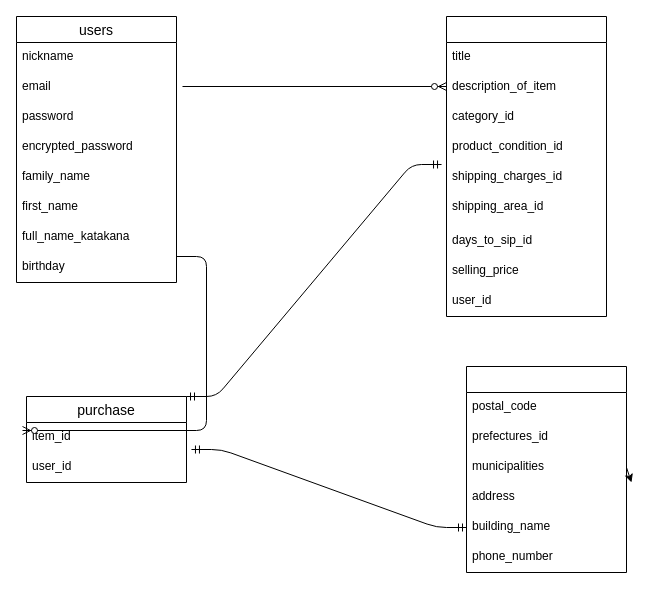
Image size: 649x589. Some labels were removed from this diagram. The shapes that lost their labels are listed below. From the top down, each one's box as (x1, y1, x2, y2) in pixels, then its label:
(446, 16, 606, 316): items
(466, 366, 626, 572): buyer_address
